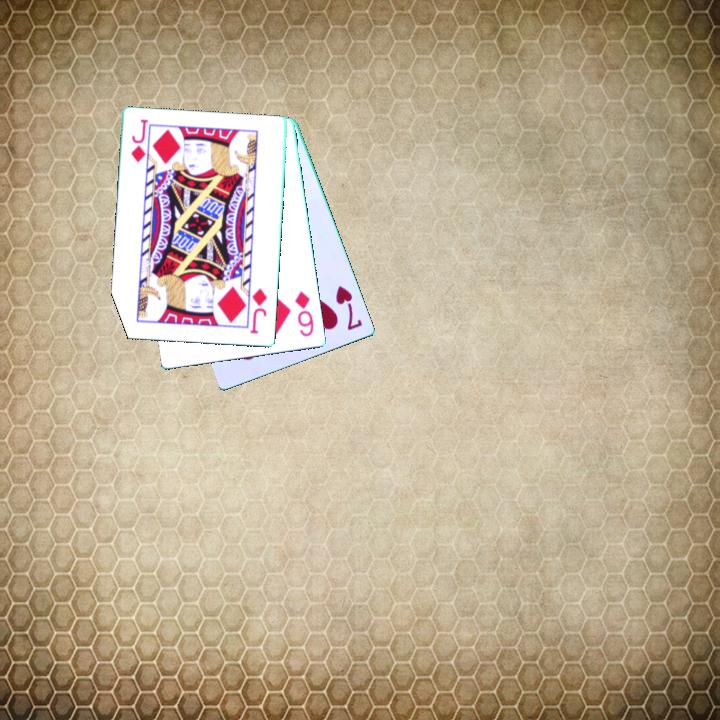6d: (291, 288, 317, 340)
7h: (332, 282, 366, 333)
Jd: (247, 285, 270, 337), (128, 116, 151, 166)
